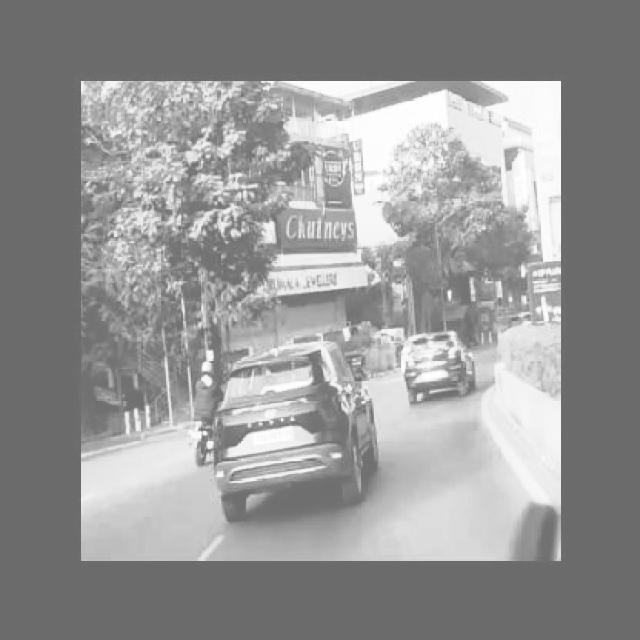Car: (210, 339, 388, 526), (401, 322, 484, 418)
